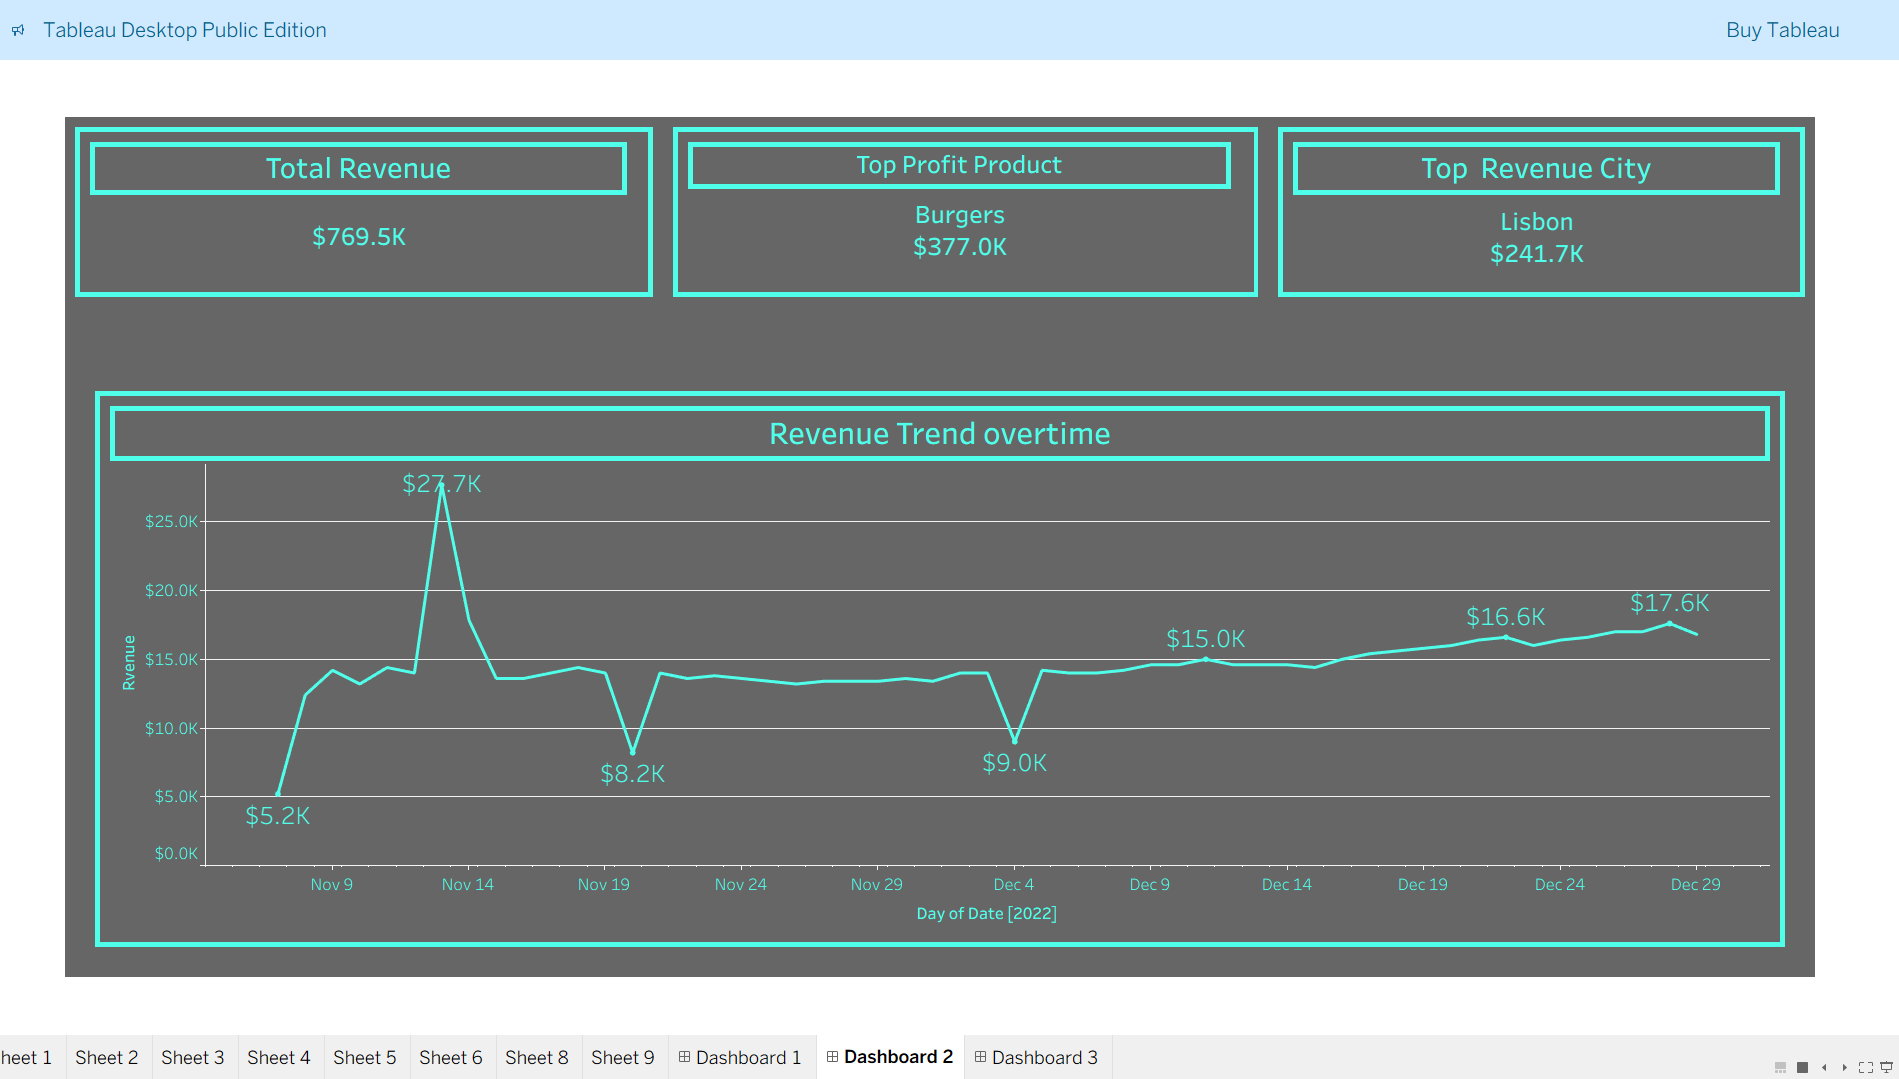

The page's visual inventory and layout, read from the dashboard file:
{"tool":"tableau","page":{"name":"Dashboard 2","canvas":[1000,1000],"units":"permille","ordinal":1},"visuals":[{"type":"worksheet","title":"Sheet 6","mark":"Automatic","box":[0,0,341.7,220.9]},{"type":"worksheet","title":"Sheet 8","mark":"Automatic","box":[341.7,0,346,220.9]},{"type":"worksheet","title":"Sheet 9","mark":"Automatic","box":[687.7,0,312.3,220.9]},{"type":"worksheet","title":"Sheet 1","mark":"Automatic","rows":["Calculation_0645987791142912"],"cols":["Date"],"box":[0,284.2,1000,715.8]}]}

Visuals, with their boxes on the dashboard's canvas, which has no fixed pixel size, in thousandths of its width and height (x1, y1, x2, y2). These are canvas units, not pixel positions in the 1899x1079 screenshot, which may show the page scaled, cropped or inside an application window:
"Sheet 6" worksheet: BBox(0, 0, 342, 221)
"Sheet 8" worksheet: BBox(342, 0, 688, 221)
"Sheet 9" worksheet: BBox(688, 0, 1000, 221)
"Sheet 1" worksheet: BBox(0, 284, 1000, 1000)
